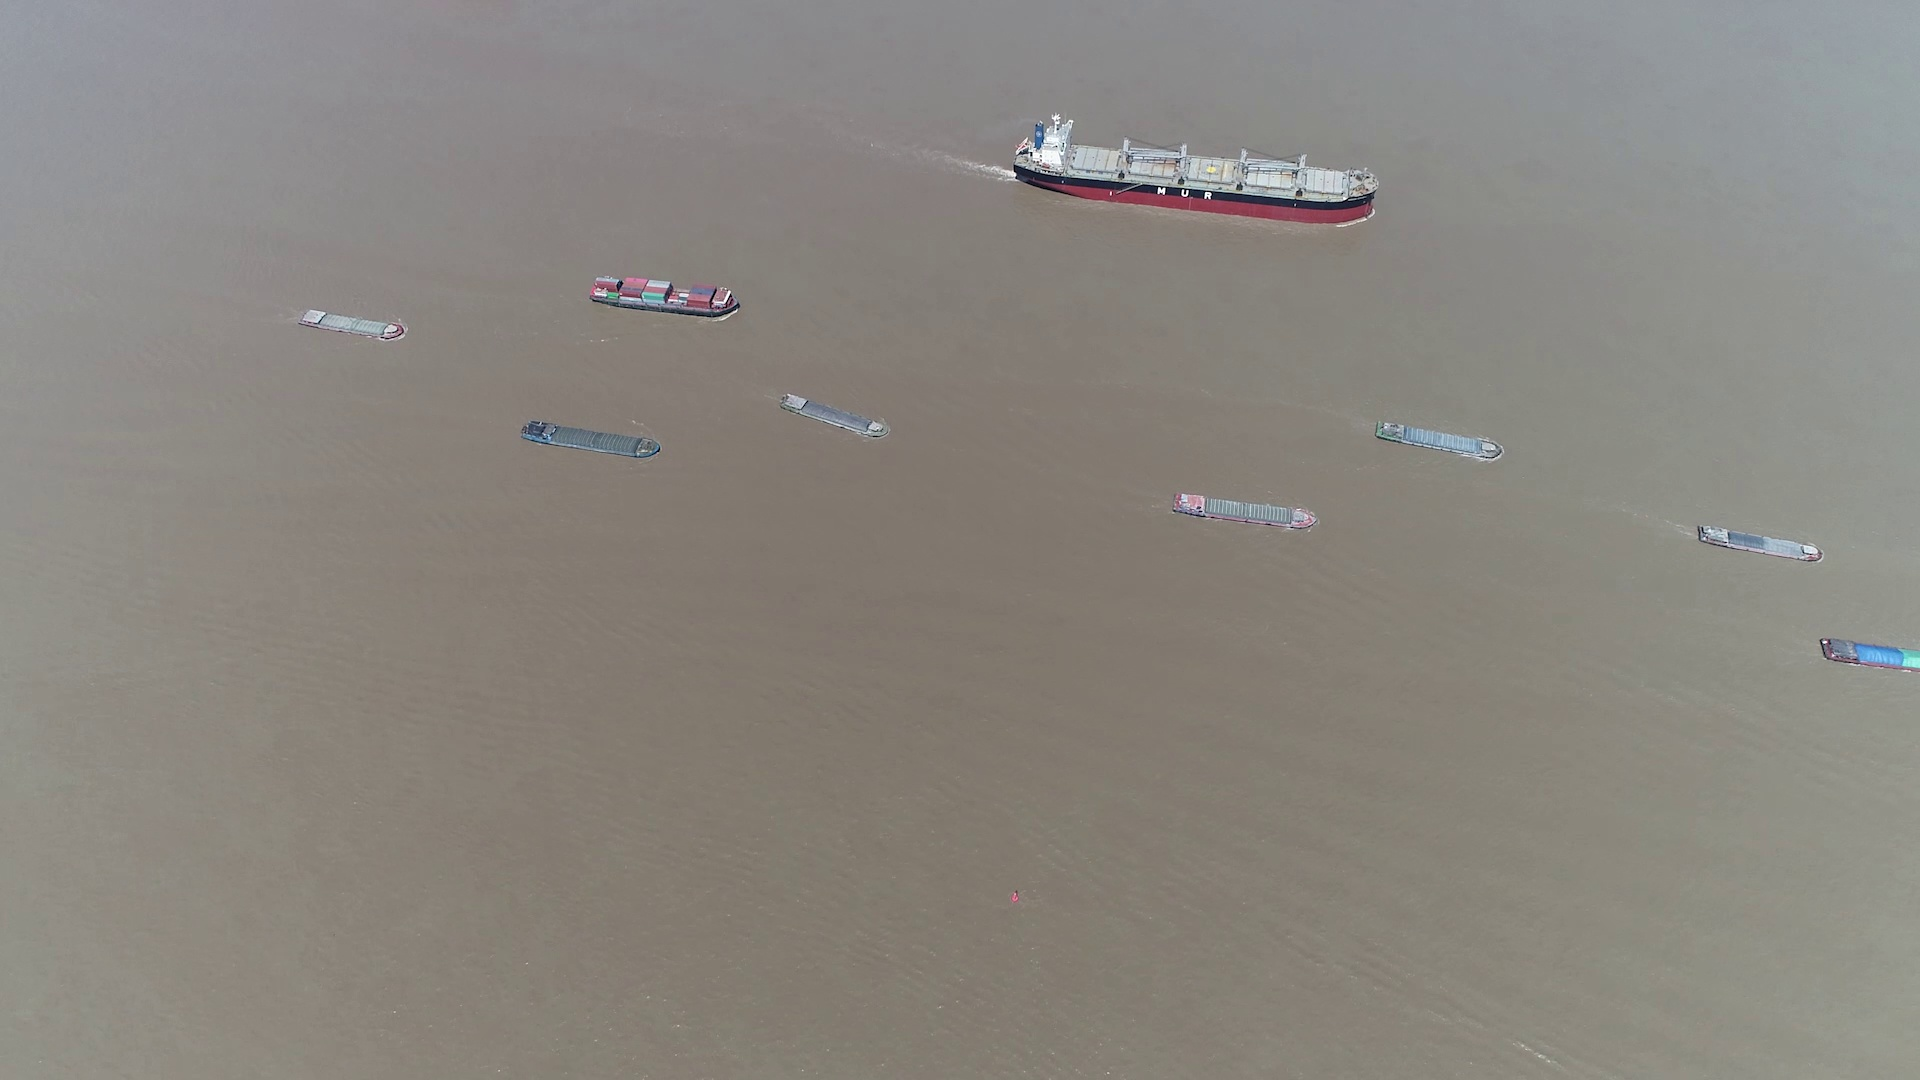ship: (1009, 116, 1378, 222), (1168, 491, 1319, 531), (520, 419, 665, 460), (589, 277, 738, 316), (1373, 418, 1505, 460), (778, 396, 891, 440), (1697, 524, 1822, 562), (298, 309, 409, 342), (1821, 637, 1919, 671)
